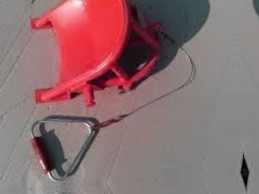chock: (22, 0, 169, 113)
